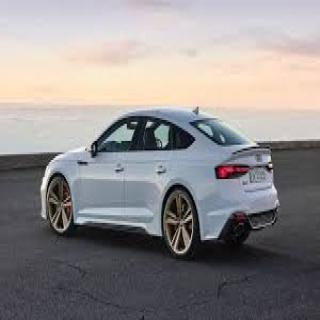Normal_vehicle: (39, 106, 280, 258)
